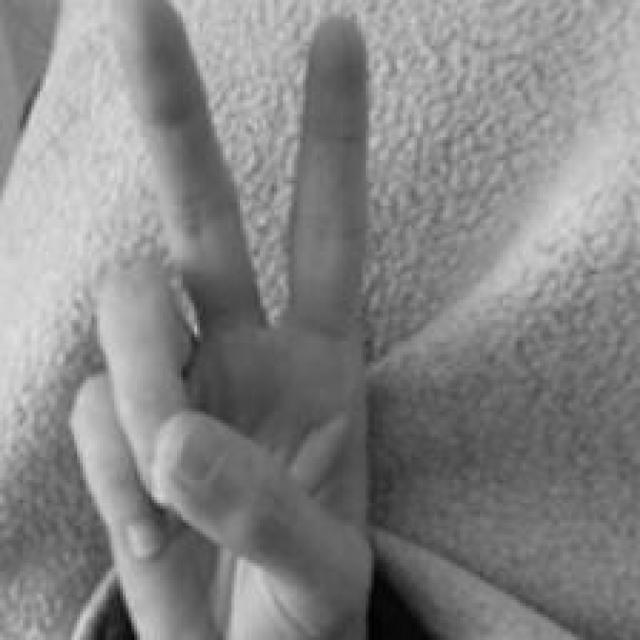V: (69, 1, 371, 640)
